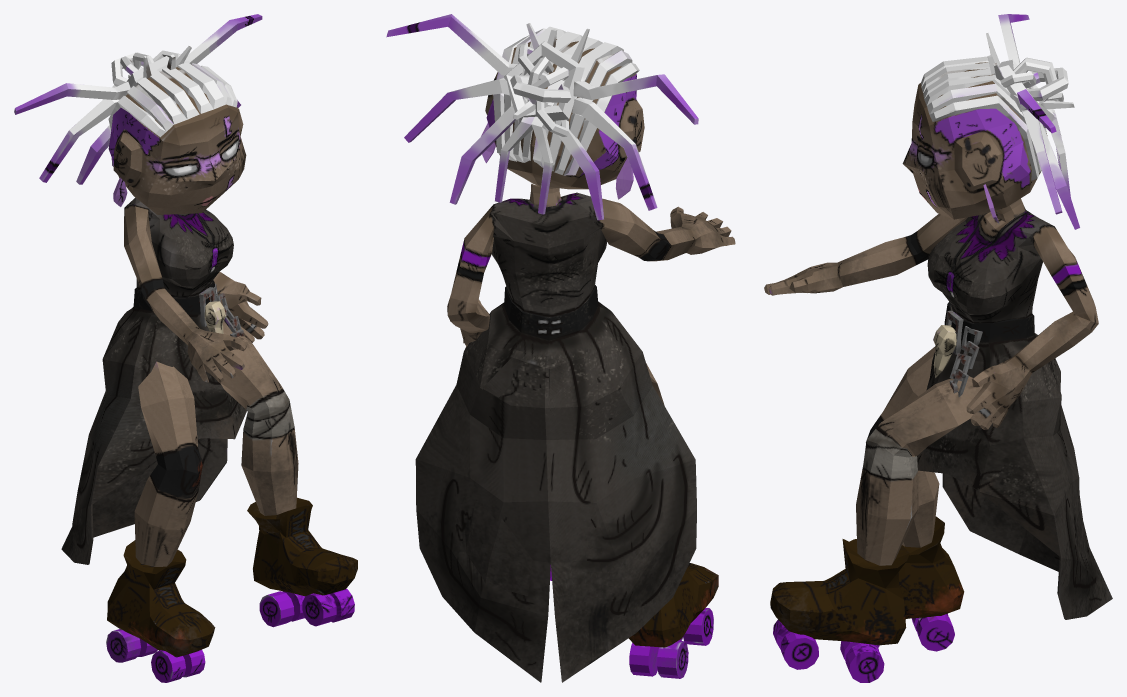
Rendered from bruja_000006.obj.
3 renders of one model, left to right at view 1: azimuth 30°, elevation 25°; view 2: azimuth 150°, elevation 25°; view 3: azimuth 270°, elevation 25°, orthographic. The views are drawn at different scales.
Visible parts, largest first — view 1: Bruja_Plane.001; view 2: Bruja_Plane.001; view 3: Bruja_Plane.001.
Part boxes in pixels (<box>): Bruja_Plane.001: <box>14,14,357,682</box>; Bruja_Plane.001: <box>386,14,735,682</box>; Bruja_Plane.001: <box>764,14,1112,682</box>.
Bounding box in the file's own units: 7.42 × 15.72 × 7.9.
